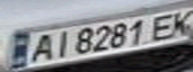1: (124, 16, 154, 46)
2: (90, 21, 115, 53)
8: (72, 25, 96, 56), (109, 20, 133, 50)
A: (24, 31, 57, 64)
E: (145, 11, 184, 42)
I: (48, 28, 72, 60)
K: (163, 7, 193, 38)
